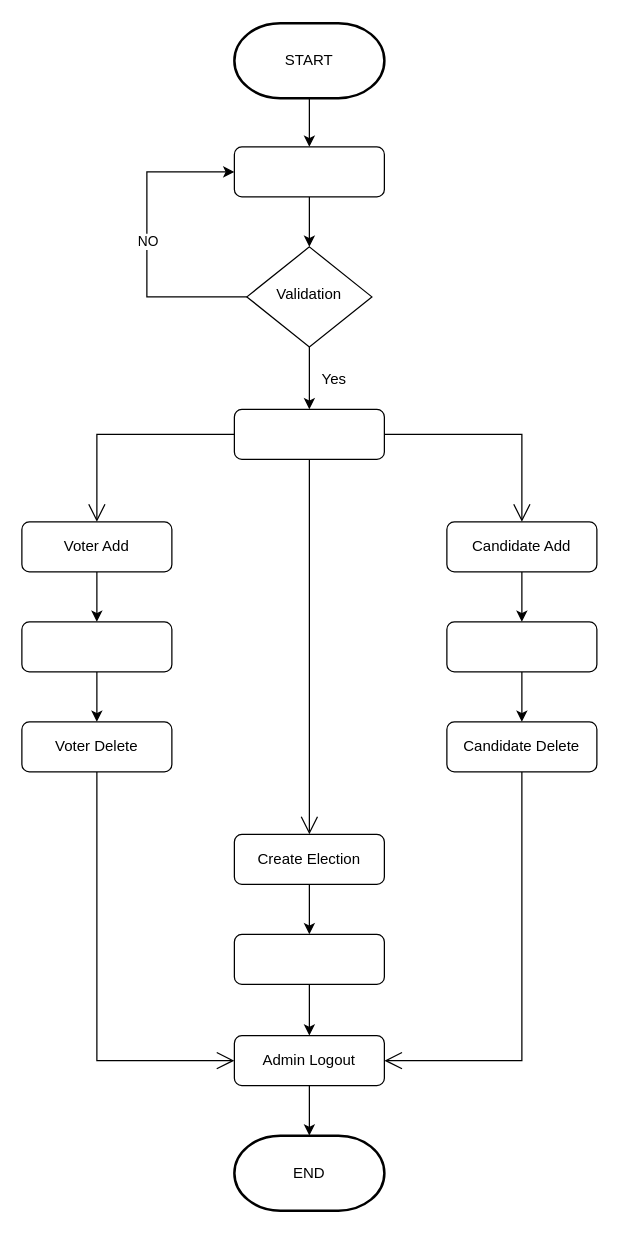
This 619x1233 diagram has some shape labels left out. Here are the shapes that lost their labels. From the top down, the centre of each, then its label:
At pixel 308 171: "Admin Login".
At pixel 308 433: "Admin Dashboard".
At pixel 96 646: "Voter Update".
At pixel 521 646: "Candidate Update".
At pixel 308 958: "Publish Result".
